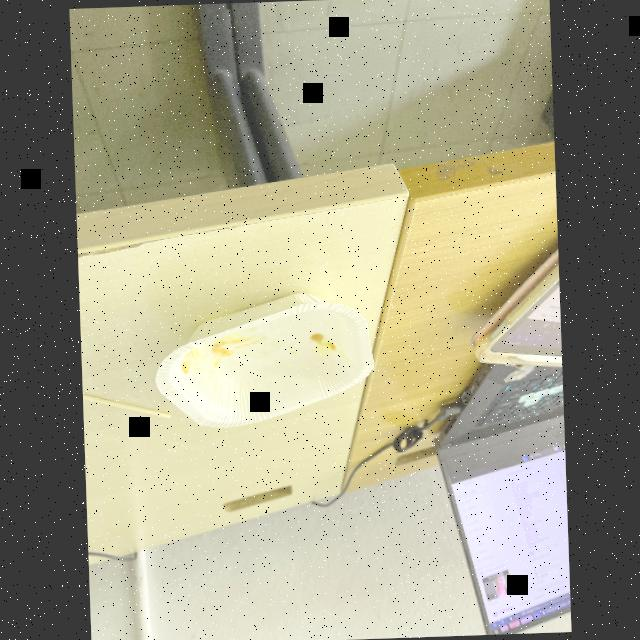cardboard_bowl: (150, 289, 380, 433)
stick: (82, 386, 176, 427)
